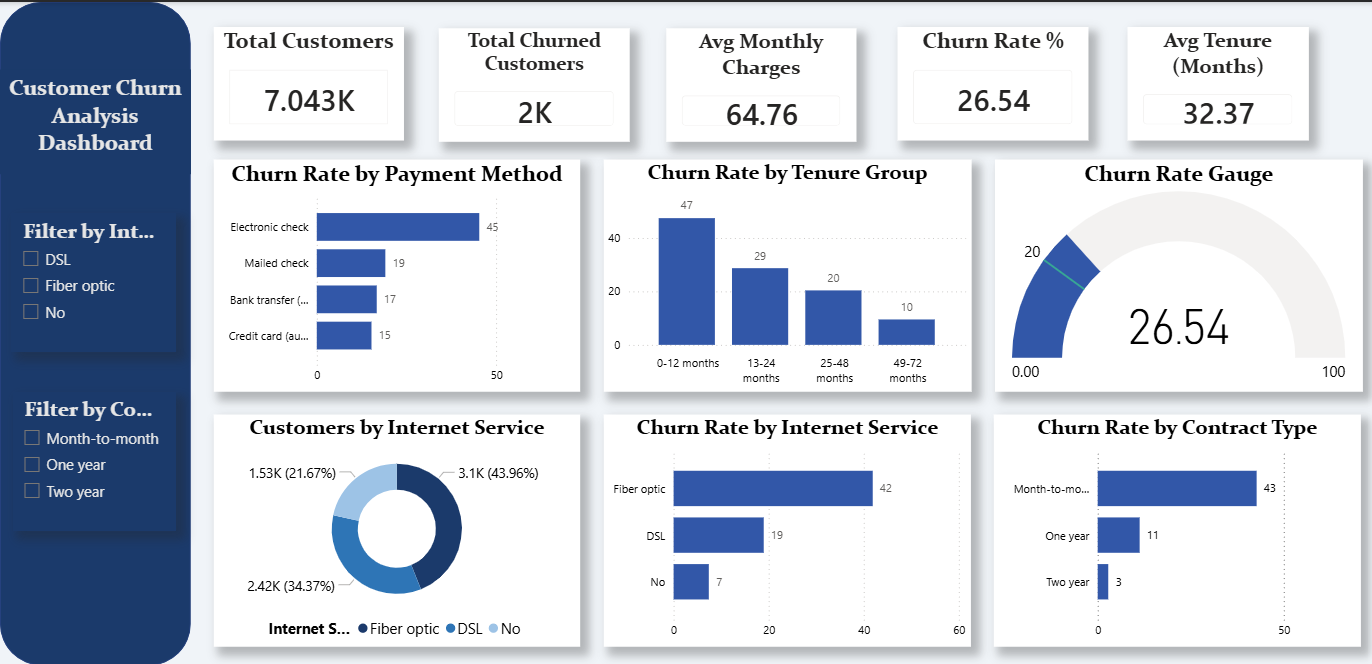

This screenshot's page, from the dashboard's own definition file:
{"tool":"powerbi","page":{"name":"Page 1","canvas":[1493,720],"ordinal":0},"visuals":[{"type":"cardVisual","title":"Total Customers","fields":{"Data":["Count(telco_churn_dashboard.customerID)"]},"box":[231.9,27.1,206.2,123.4],"z":0},{"type":"cardVisual","title":"Churn Rate %","fields":{"Data":["telco_churn_dashboard.Churn Rate %"]},"box":[973.8,27.1,207.5,123.4],"z":1000},{"type":"cardVisual","title":"Avg Monthly Charges","fields":{"Data":["telco_churn_dashboard.Avg Monthly Charges"]},"box":[722.9,28.5,206.2,123.4],"z":2000},{"type":"cardVisual","title":"Total Churned Customers","fields":{"Data":["telco_churn_dashboard.Total Churned Customers"]},"box":[476.1,28.5,207.5,123.4],"z":3000},{"type":"donutChart","title":"Customers by Internet Service","fields":{"Category":["telco_churn_dashboard.InternetService"],"Y":["CountNonNull(telco_churn_dashboard.customerID)"]},"box":[231.4,447.7,397.7,252.3],"z":4000},{"type":"clusteredBarChart","title":"Churn Rate by Contract Type","fields":{"Category":["telco_churn_dashboard.Contract"],"Y":["telco_churn_dashboard.Churn Rate %"]},"box":[1078.8,448.1,398.5,252.2],"z":5000},{"type":"clusteredBarChart","title":"Churn Rate by Payment Method","fields":{"Category":["telco_churn_dashboard.PaymentMethod"],"Y":["telco_churn_dashboard.Churn Rate %"]},"box":[231.4,170.9,397.7,252.3],"z":6000},{"type":"shape","box":[0,0,207,719.8],"z":6500},{"type":"clusteredColumnChart","title":"Churn Rate by Tenure Group","fields":{"Y":["telco_churn_dashboard.Churn Rate %"],"Category":["telco_churn_dashboard.tenure_group"]},"box":[654.7,170.9,398.8,252.3],"z":7000},{"type":"clusteredBarChart","title":"Churn Rate by Internet Service","fields":{"Category":["telco_churn_dashboard.InternetService"],"Y":["telco_churn_dashboard.Churn Rate %"]},"box":[655.1,447.6,398.7,252.3],"z":8000},{"type":"slicer","fields":{"Values":["telco_churn_dashboard.Contract"]},"box":[14,423.3,177.9,150],"z":9000},{"type":"slicer","fields":{"Values":["telco_churn_dashboard.InternetService"]},"box":[12.8,229.1,179.1,150],"z":11000},{"type":"textbox","box":[0,73.3,207,114],"z":12000},{"type":"cardVisual","title":"Avg Tenure (Months)","fields":{"Data":["telco_churn_dashboard.Avg Tenure"]},"box":[1223.4,27.1,196.7,123.4],"z":12001},{"type":"gauge","title":"Churn Rate Gauge","fields":{"Y":["telco_churn_dashboard.Churn Rate %"],"MaxValue":["telco_churn_dashboard.Max Churn"],"TargetValue":["telco_churn_dashboard.Target Churn"]},"box":[1079,171,399,252],"z":12002}]}

Visuals, with their boxes in screenshot pixels (x1, y1, x2, y2), scaled from the page's 1493x720 canvas onto the 1372x664 screenshot:
"Total Customers" cardVisual: <bbox>213, 25, 403, 139</bbox>
"Churn Rate %" cardVisual: <bbox>895, 25, 1086, 139</bbox>
"Avg Monthly Charges" cardVisual: <bbox>664, 26, 854, 140</bbox>
"Total Churned Customers" cardVisual: <bbox>438, 26, 628, 140</bbox>
"Customers by Internet Service" donutChart: <bbox>213, 413, 578, 646</bbox>
"Churn Rate by Contract Type" clusteredBarChart: <bbox>991, 413, 1358, 646</bbox>
"Churn Rate by Payment Method" clusteredBarChart: <bbox>213, 158, 578, 390</bbox>
shape: <bbox>0, 0, 190, 663</bbox>
"Churn Rate by Tenure Group" clusteredColumnChart: <bbox>602, 158, 968, 390</bbox>
"Churn Rate by Internet Service" clusteredBarChart: <bbox>602, 413, 968, 645</bbox>
slicer - telco_churn_dashboard.Contract: <bbox>13, 390, 176, 529</bbox>
slicer - telco_churn_dashboard.InternetService: <bbox>12, 211, 176, 350</bbox>
textbox: <bbox>0, 68, 190, 173</bbox>
"Avg Tenure (Months)" cardVisual: <bbox>1124, 25, 1305, 139</bbox>
"Churn Rate Gauge" gauge: <bbox>992, 158, 1358, 390</bbox>
